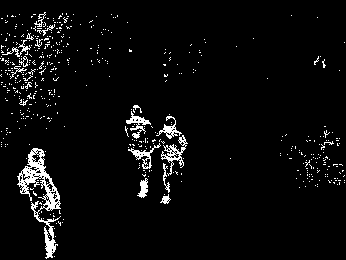person: (18, 146, 63, 260), (121, 100, 156, 201), (153, 112, 185, 209)
